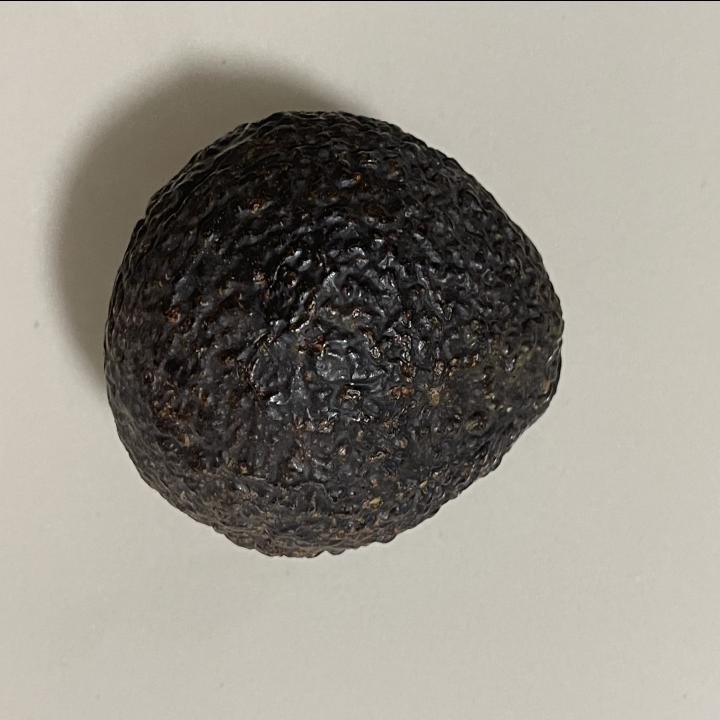Level1: (94, 90, 579, 582)
